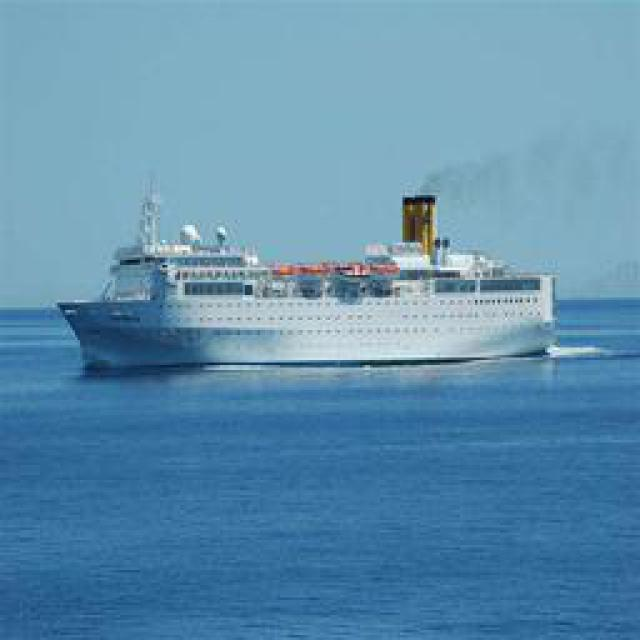Ship: (55, 181, 573, 374)
